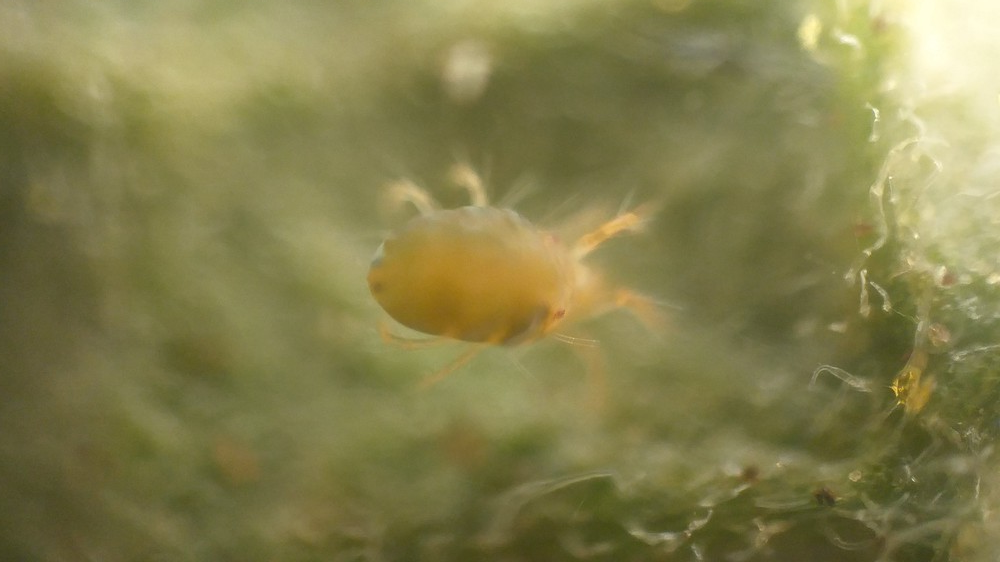Aracnido Rojo: (288, 149, 677, 420)
